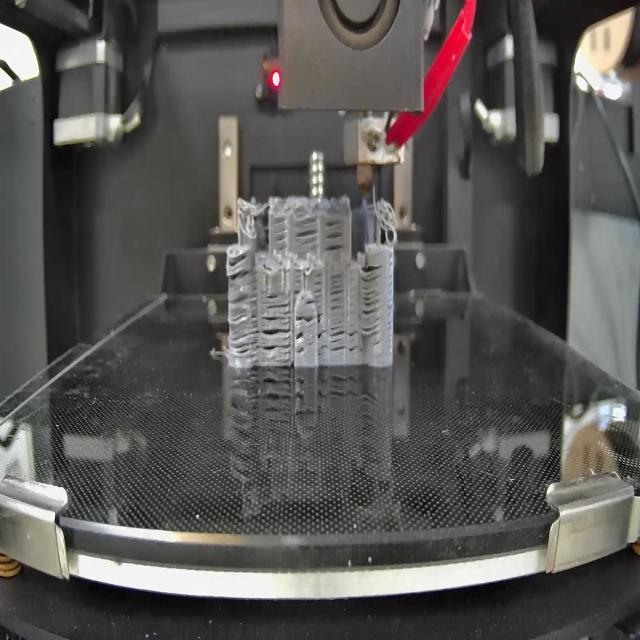cracks: (227, 249, 260, 359), (359, 264, 384, 338), (262, 315, 291, 363), (330, 320, 360, 355), (294, 218, 319, 251), (324, 221, 346, 251), (266, 286, 291, 311), (273, 217, 289, 251), (331, 271, 344, 310), (318, 312, 327, 361), (293, 268, 303, 296), (296, 310, 314, 325), (314, 270, 324, 295), (295, 333, 305, 358), (305, 299, 317, 305)
